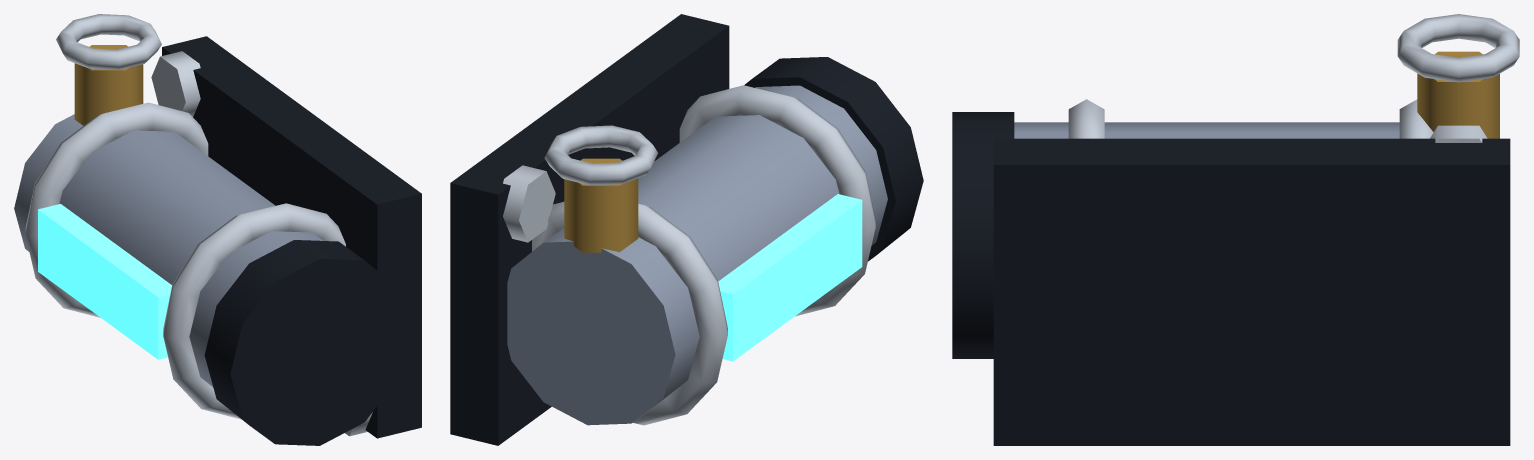
File: attach_cryocell.glb
The picture shows the model from 3 angles, left to right: view 1: azimuth 30°, elevation 25°; view 2: azimuth 150°, elevation 25°; view 3: azimuth 270°, elevation 25°; orthographic projection. The views are drawn at different scales.
Parts seen in each view (by area): view 1: attach_cryocell_cap, attach_cryocell_plate, attach_cryocell_can, attach_cryocell_window, attach_cryocell_rime0.016, attach_cryocell_rime-0.016, attach_cryocell_valve_wheel, attach_cryocell_valve, attach_cryocell_screws; view 2: attach_cryocell_can, attach_cryocell_plate, attach_cryocell_window, attach_cryocell_cap, attach_cryocell_rime0.016, attach_cryocell_rime-0.016, attach_cryocell_valve, attach_cryocell_valve_wheel, attach_cryocell_screws; view 3: attach_cryocell_plate, attach_cryocell_cap, attach_cryocell_can, attach_cryocell_valve_wheel, attach_cryocell_valve, attach_cryocell_rime0.016, attach_cryocell_rime-0.016, attach_cryocell_screws.
Part boxes in pixels (box(x1,y1,x2,y2)): attach_cryocell_cap: box(204, 240, 409, 445); attach_cryocell_plate: box(162, 36, 421, 438); attach_cryocell_can: box(14, 114, 323, 386); attach_cryocell_window: box(38, 204, 172, 359); attach_cryocell_rime0.016: box(163, 203, 345, 419); attach_cryocell_rime-0.016: box(25, 102, 208, 317); attach_cryocell_valve_wheel: box(56, 14, 161, 69); attach_cryocell_valve: box(74, 45, 143, 125); attach_cryocell_screws: box(151, 51, 372, 436); attach_cryocell_can: box(507, 85, 887, 425); attach_cryocell_plate: box(450, 14, 729, 445); attach_cryocell_window: box(718, 194, 862, 361); attach_cryocell_cap: box(744, 57, 923, 261); attach_cryocell_rime0.016: box(679, 85, 875, 316); attach_cryocell_rime-0.016: box(532, 201, 727, 425); attach_cryocell_valve: box(564, 158, 638, 252); attach_cryocell_valve_wheel: box(544, 125, 657, 185); attach_cryocell_screws: box(503, 165, 555, 242); attach_cryocell_plate: box(993, 138, 1510, 445); attach_cryocell_cap: box(952, 112, 1014, 358); attach_cryocell_can: box(1014, 122, 1399, 138); attach_cryocell_valve_wheel: box(1397, 14, 1519, 82); attach_cryocell_valve: box(1417, 51, 1499, 138); attach_cryocell_rime0.016: box(1068, 99, 1104, 138); attach_cryocell_rime-0.016: box(1399, 99, 1433, 138); attach_cryocell_screws: box(1430, 125, 1487, 142).
Bounding box in the file's own units: 0.0295 × 0.0365 × 0.0549.
